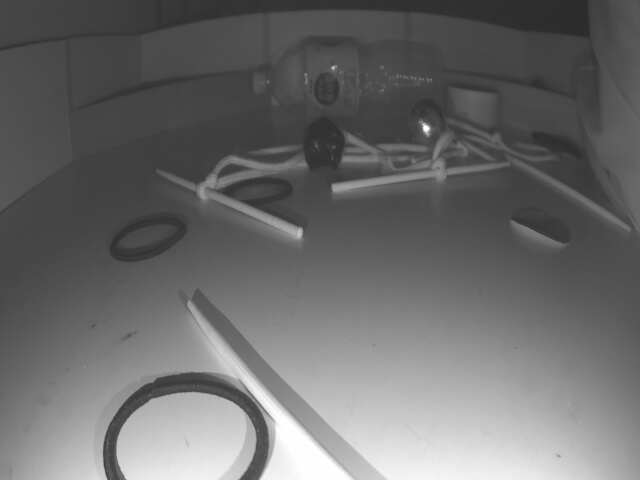Dead: (305, 116, 344, 169)
Live: (406, 97, 444, 149)
Point: (74, 70, 269, 163), (442, 68, 584, 144)
